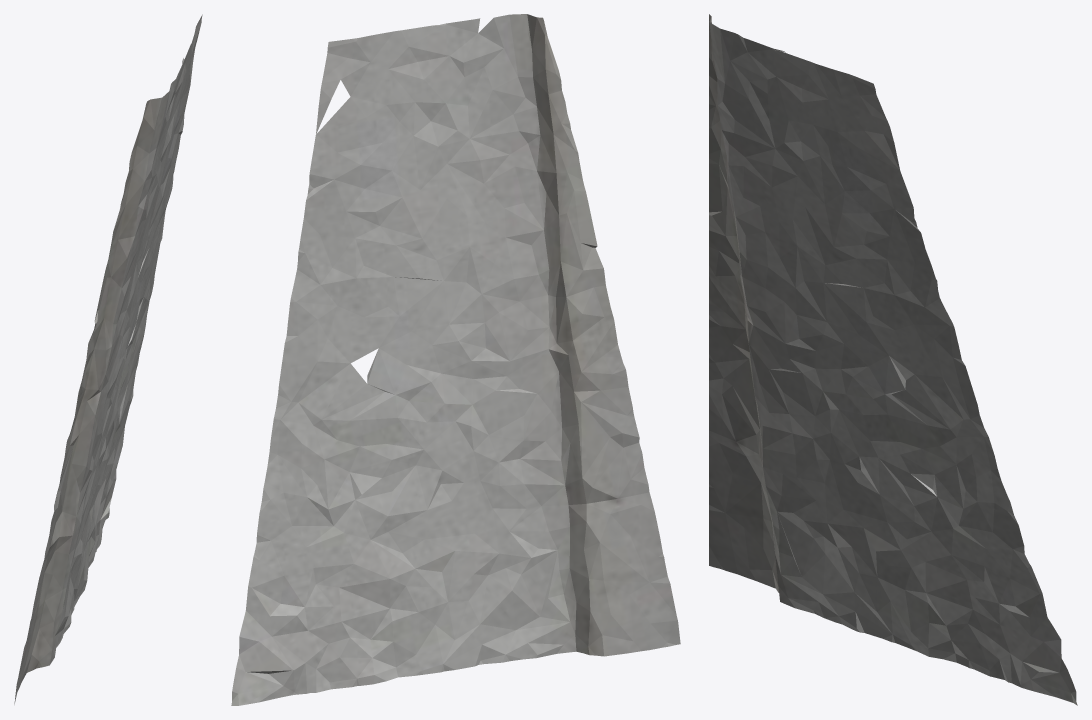
The picture shows the model from 3 angles, left to right: view 1: azimuth 30°, elevation 25°; view 2: azimuth 150°, elevation 25°; view 3: azimuth 270°, elevation 25°; orthographic projection. The views are drawn at different scales.
Size of the model in its own units: 0.4044 by 0.8374 by 0.4497.
2 materials, 2 textured.
